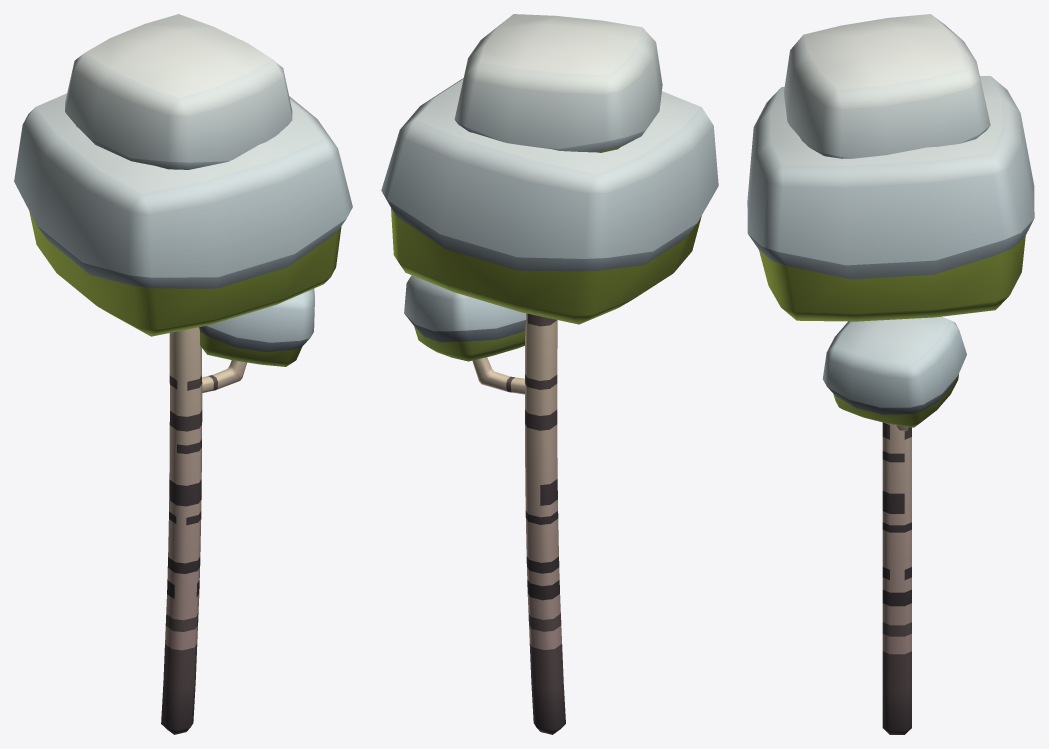
Rendered from birch_tree_col1_04_snow.fbx.
3 renders of one model, left to right at view 1: azimuth 30°, elevation 25°; view 2: azimuth 150°, elevation 25°; view 3: azimuth 270°, elevation 25°, orthographic.
Visible parts, largest first — view 1: birch_tree_SC_col1_04_snow; view 2: birch_tree_SC_col1_04_snow; view 3: birch_tree_SC_col1_04_snow.
Boxes of the visible parts, box(x1,y1,x2,y2) form: birch_tree_SC_col1_04_snow: box(14, 14, 352, 734); birch_tree_SC_col1_04_snow: box(381, 14, 718, 734); birch_tree_SC_col1_04_snow: box(747, 14, 1034, 734).
Bounding box in the file's own units: 382 × 978 × 370.
